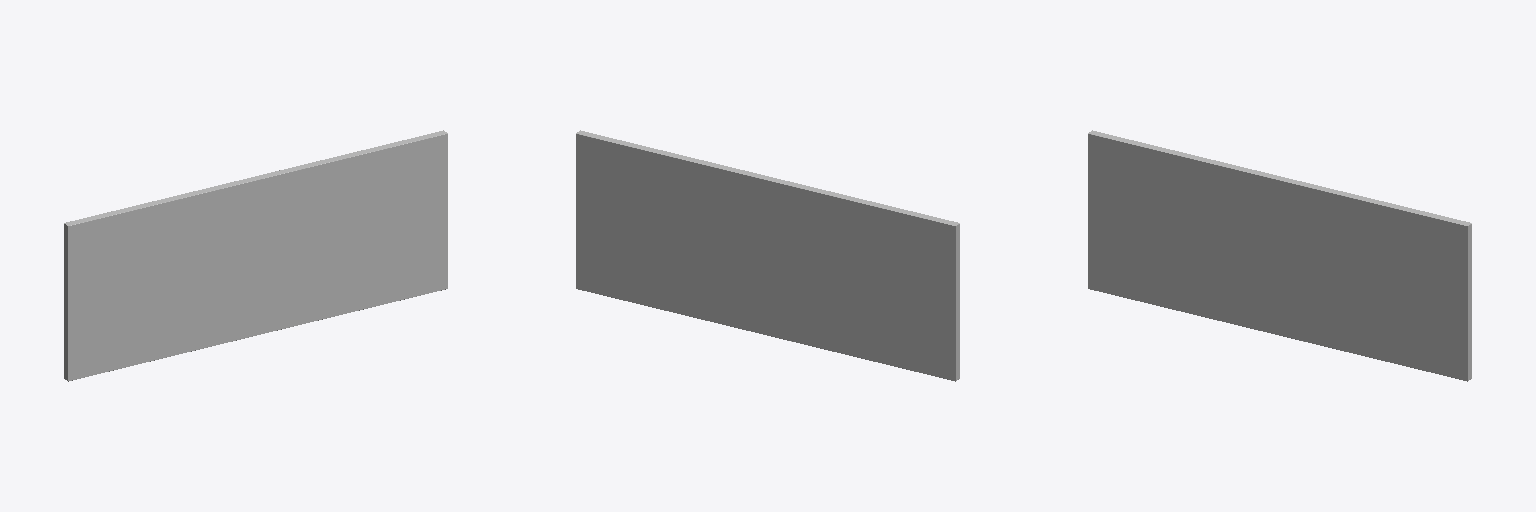
Rendered from B07GFW9GFX_part_5.obj.
3 renders of one model, left to right at view 1: azimuth 30°, elevation 25°; view 2: azimuth 150°, elevation 25°; view 3: azimuth 330°, elevation 25°, orthographic.
Bounding box in the file's own units: 0.3652 × 0.1427 × 0.0074.